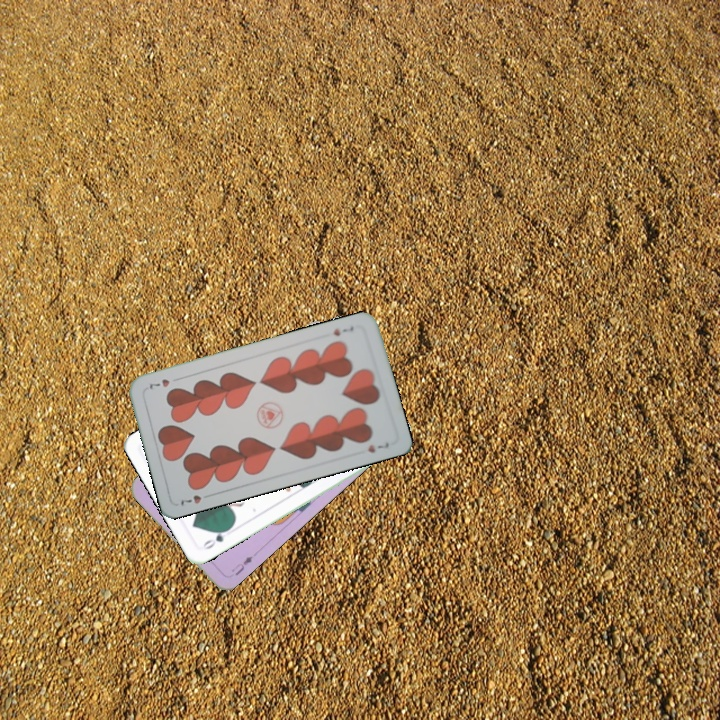EU: (227, 552, 255, 578)
GO: (199, 524, 233, 552)
H7: (176, 490, 214, 508), (329, 322, 356, 339)
